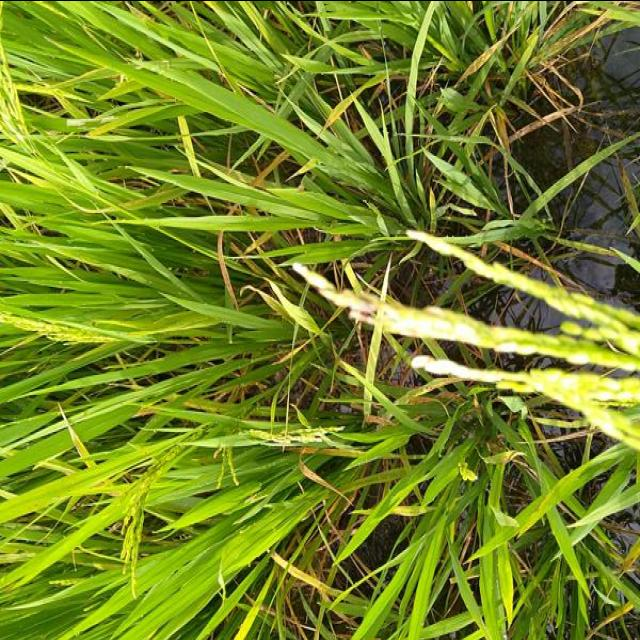Panicle Blight: (339, 289, 383, 324)
